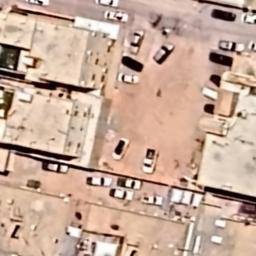SUV: (112, 138, 130, 160), (114, 190, 134, 202), (142, 195, 163, 206), (92, 176, 112, 186)
pickup: (142, 148, 158, 174), (220, 40, 248, 54), (117, 178, 141, 190)
sedan: (128, 30, 145, 55), (122, 56, 144, 72), (209, 52, 233, 66), (105, 10, 129, 23), (212, 10, 236, 21), (118, 72, 139, 84), (24, 0, 50, 6), (96, 0, 118, 6)
truck: (42, 161, 69, 173), (202, 87, 218, 100)
unknown: (242, 14, 256, 24), (247, 41, 256, 53)
van: (152, 41, 174, 64)
